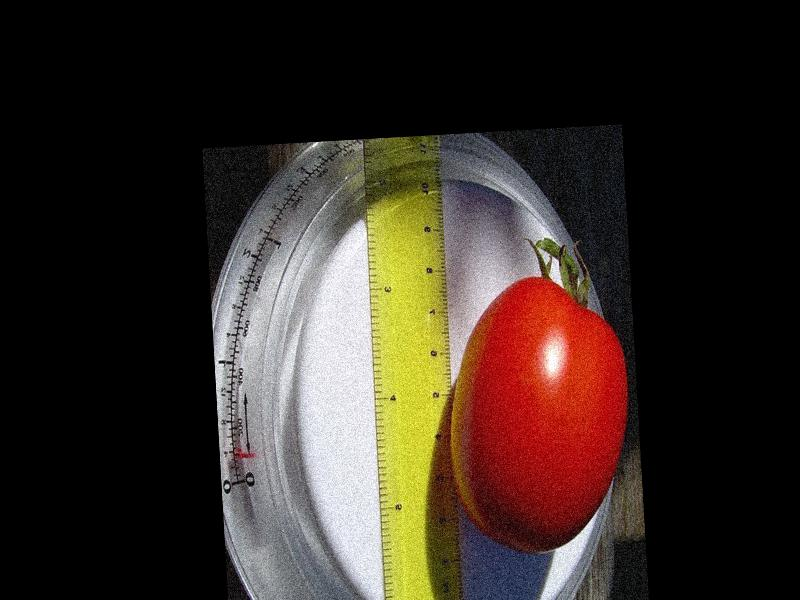Tomato: (436, 270, 637, 556)
